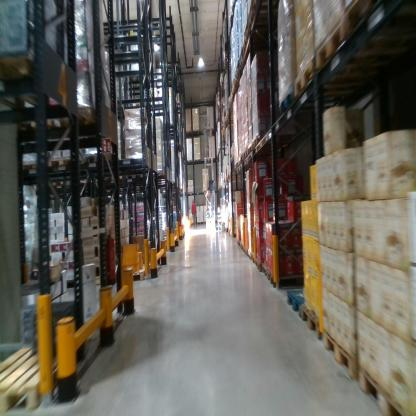pallet: (1, 339, 73, 408), (311, 18, 403, 71), (292, 52, 372, 99), (5, 50, 59, 108), (340, 2, 407, 41), (319, 325, 357, 388), (357, 362, 403, 412), (279, 79, 332, 116), (123, 259, 156, 283), (301, 306, 321, 345), (249, 8, 281, 31), (243, 28, 273, 51), (252, 129, 275, 156), (285, 289, 305, 319), (14, 159, 45, 175), (48, 154, 74, 172), (251, 2, 281, 15), (44, 177, 65, 194), (84, 154, 110, 167), (124, 171, 145, 181), (247, 142, 252, 157), (244, 147, 249, 160), (240, 153, 244, 162)
